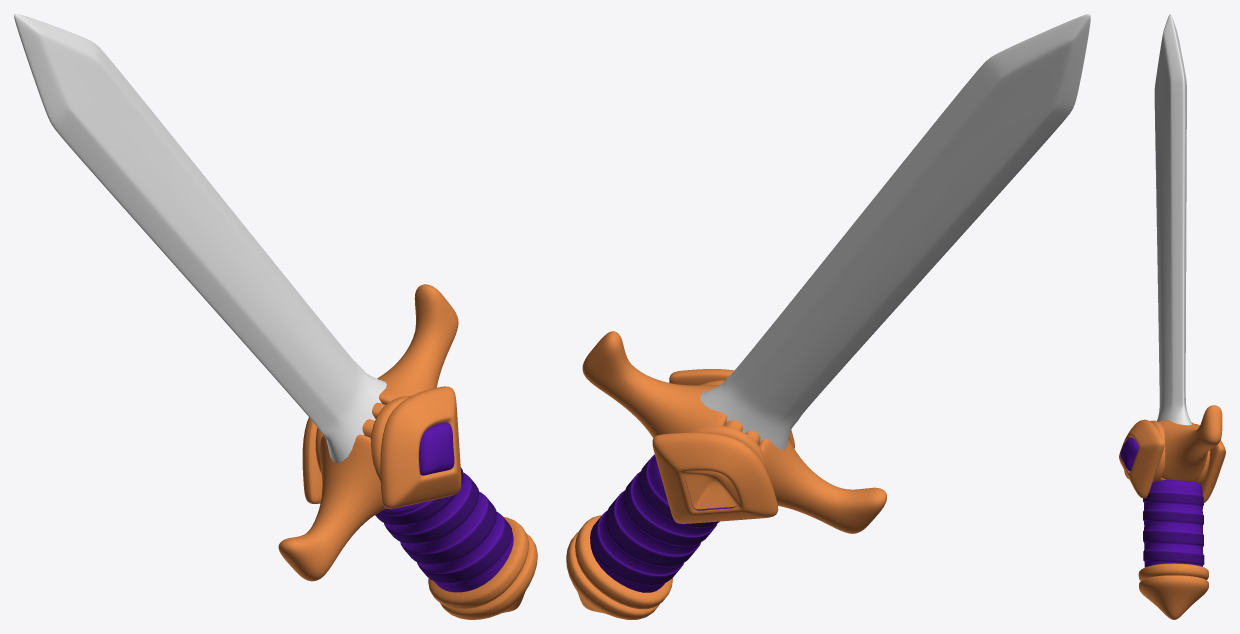
File: Sword.glb
3 views of the same model, side by side, from view 1: azimuth 30°, elevation 25°; view 2: azimuth 150°, elevation 25°; view 3: azimuth 270°, elevation 25° (orthographic). The views are drawn at different scales.
Visible parts, largest first — view 1: Cube.004, Cube.001, Cube.005, Cube.002, Cube.003, Cube, Cube.006, Cube.007; view 2: Cube.004, Cube.007, Cube.001, Cube.003, Cube.002, Cube, Cube.005; view 3: Cube.004, Cube.001, Cube.003, Cube, Cube.005, Cube.007, Cube.006.
Part boxes in pixels (x1=…): Cube.004: x1=14, y1=14, x2=386, y2=462; Cube.001: x1=375, y1=467, x2=513, y2=592; Cube.005: x1=370, y1=386, x2=461, y2=508; Cube.002: x1=278, y1=419, x2=385, y2=581; Cube.003: x1=372, y1=284, x2=458, y2=418; Cube: x1=428, y1=517, x2=537, y2=619; Cube.006: x1=419, y1=422, x2=454, y2=475; Cube.007: x1=302, y1=417, x2=323, y2=503; Cube.004: x1=700, y1=14, x2=1090, y2=449; Cube.007: x1=652, y1=425, x2=778, y2=523; Cube.001: x1=590, y1=454, x2=719, y2=592; Cube.003: x1=582, y1=331, x2=742, y2=476; Cube.002: x1=745, y1=430, x2=886, y2=533; Cube: x1=566, y1=515, x2=672, y2=619; Cube.005: x1=669, y1=369, x2=794, y2=448; Cube.004: x1=1154, y1=14, x2=1191, y2=425; Cube.001: x1=1143, y1=480, x2=1204, y2=567; Cube.003: x1=1159, y1=405, x2=1222, y2=481; Cube: x1=1138, y1=563, x2=1208, y2=619; Cube.005: x1=1119, y1=419, x2=1165, y2=498; Cube.007: x1=1194, y1=424, x2=1225, y2=502; Cube.006: x1=1120, y1=437, x2=1138, y2=471.
Bounding box in the file's own units: 1.43 × 1.91 × 0.408.
